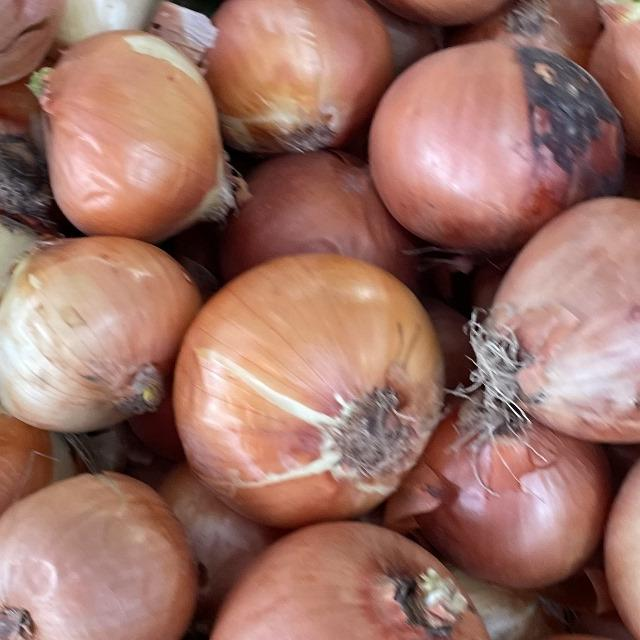onion: (170, 228, 452, 532), (465, 175, 640, 455), (185, 502, 530, 640), (0, 457, 210, 640)
